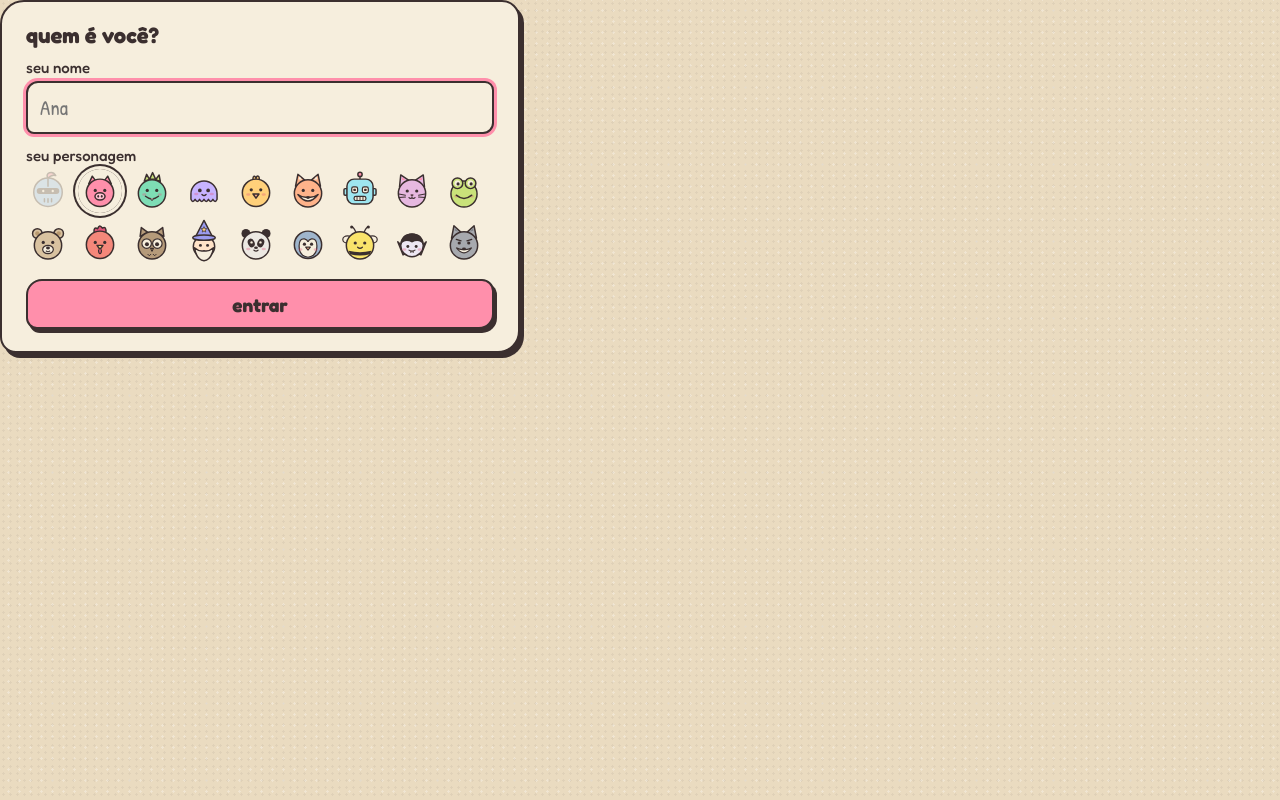
JoinForm › desabilita cores ocupadas e exige nome
Expected: the button named "cavaleiro" is disabled, top-left (26, 169), bottom-right (70, 213)
Click the button "entrar" at [260, 304], box top-left (26, 279), bottom-right (494, 329)
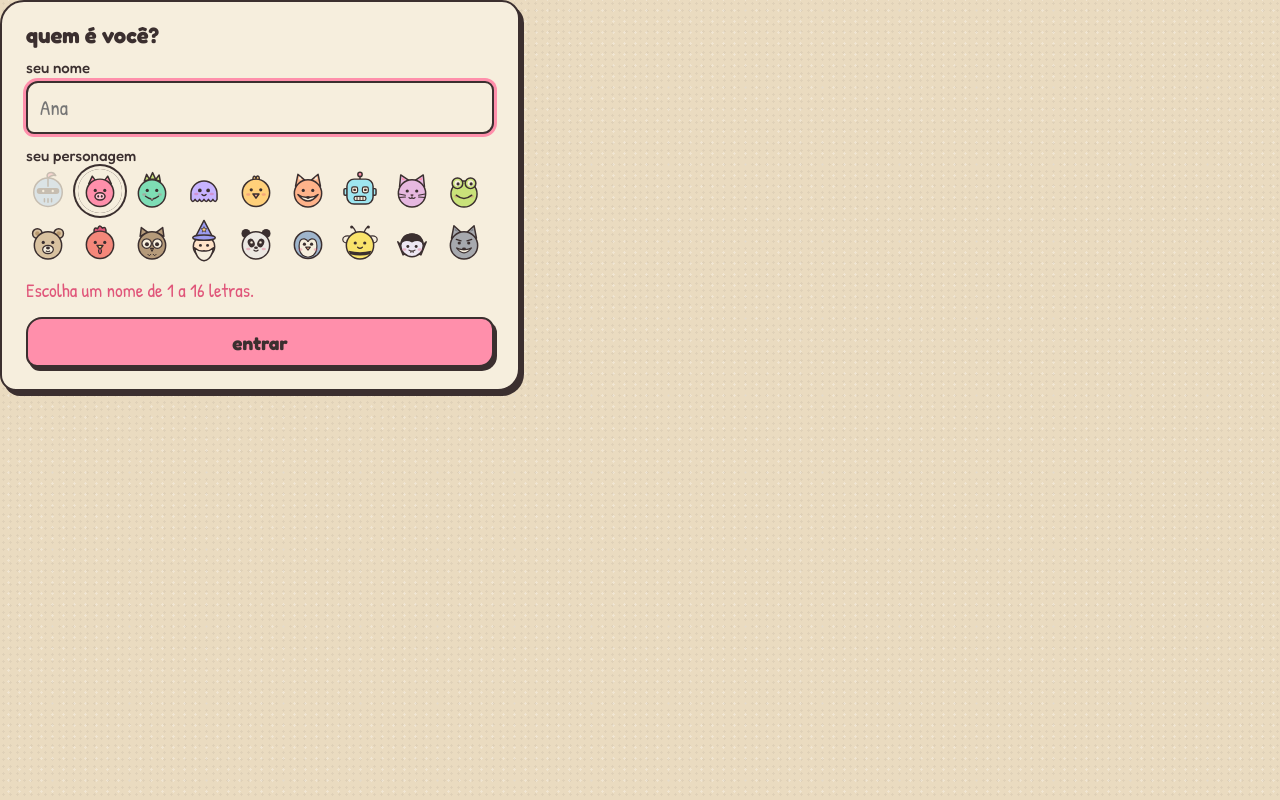
Expected: the text "Escolha um nome de 1 a 16 letras." is shown, top-left (26, 277), bottom-right (254, 303)
